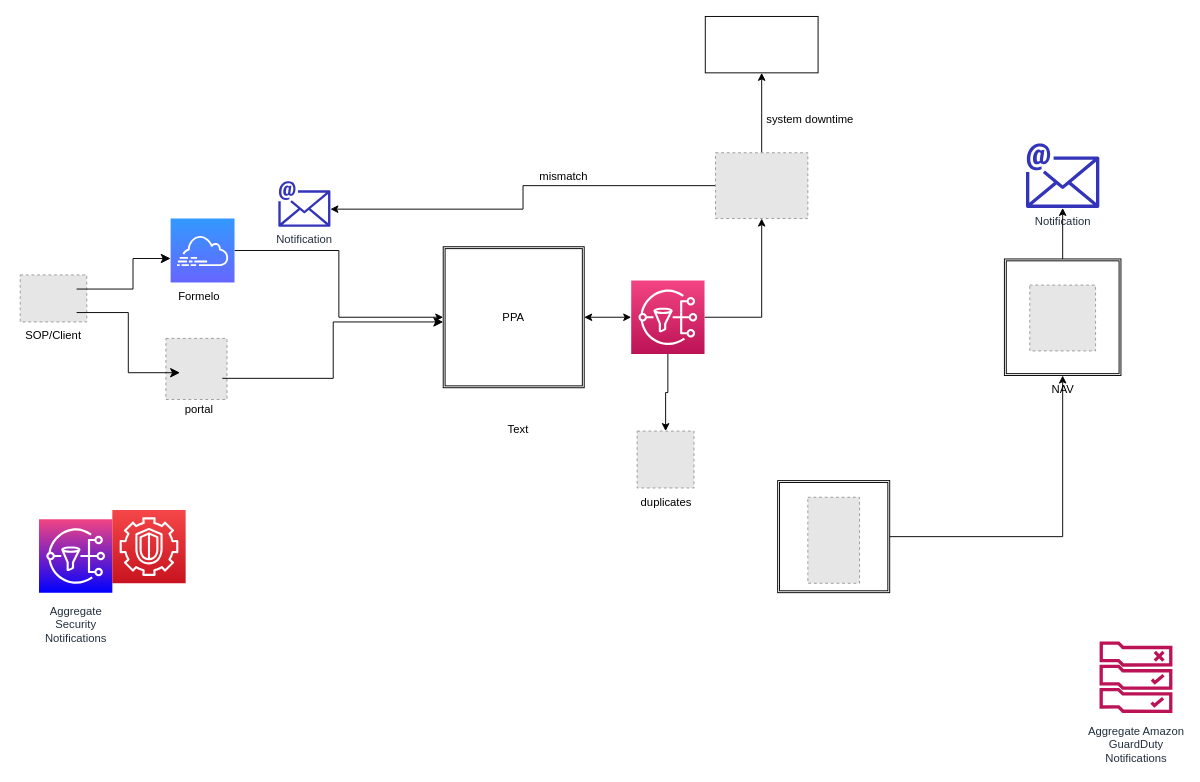
This 1200x782 diagram has some shape labels left out. Grey dashed boxes stand in for pictures. The box of each missing label's shape, as (x1, y1, x2, y2) in pixels:
Amazon GuardDuty Master: (111, 509, 186, 583)
Saved for Later: (704, 16, 818, 73)
